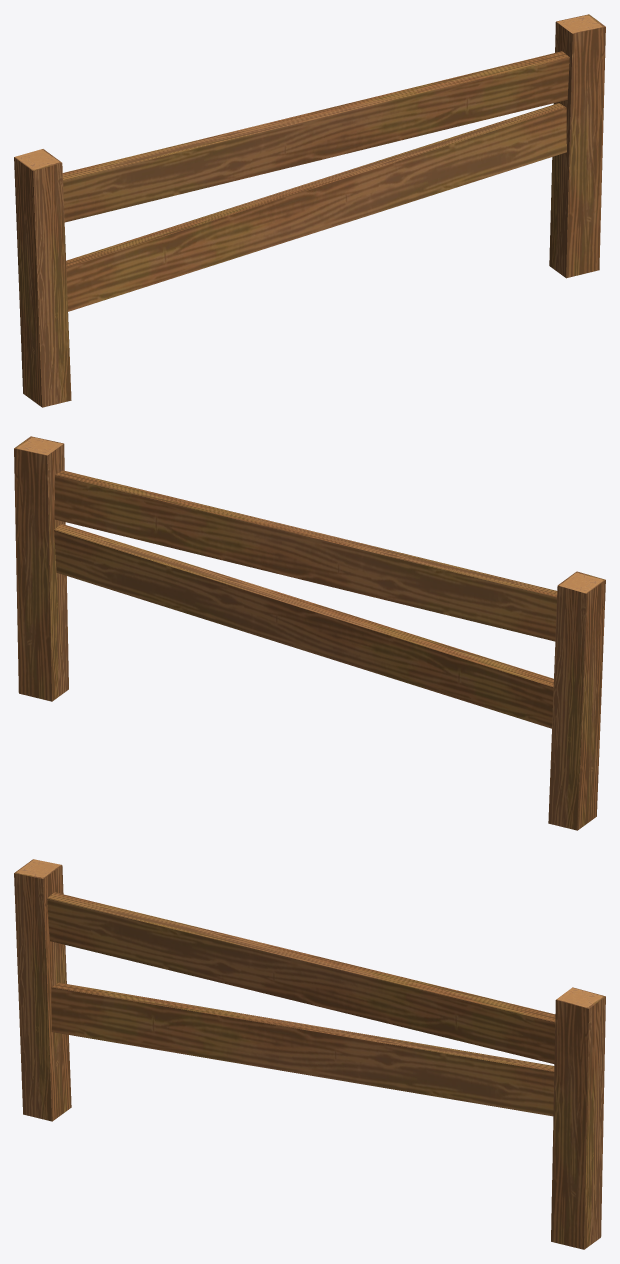
File: wood-fence.glb
3 views of the same model, one above another, from view 1: azimuth 30°, elevation 25°; view 2: azimuth 150°, elevation 25°; view 3: azimuth 330°, elevation 25° (orthographic).
Visible parts, largest first — view 1: Prop_WoodenFence_Single; view 2: Prop_WoodenFence_Single; view 3: Prop_WoodenFence_Single.
Boxes of the visible parts, bbox=[...] form: Prop_WoodenFence_Single: bbox=[14, 14, 605, 407]; Prop_WoodenFence_Single: bbox=[14, 436, 605, 830]; Prop_WoodenFence_Single: bbox=[14, 859, 605, 1249].
Size of the model in its own units: 2.06 by 0.8381 by 0.1198.
Materials: 1 (1 with a texture image).
